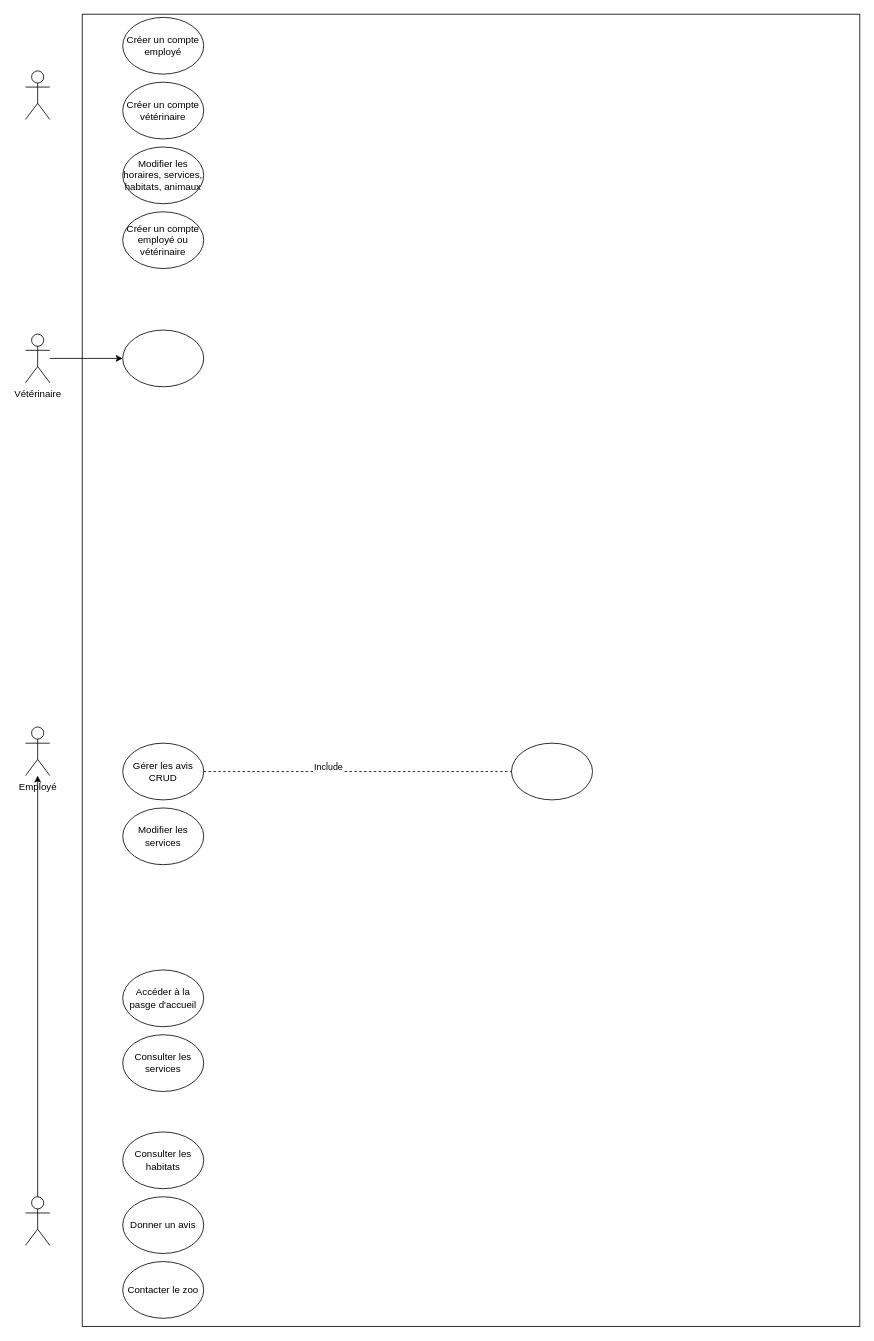
The diagram is 874 pixels wide and 1341 high, and some of its shapes have lost their labels. The box of each missing label's shape, as (x1, y1, x2, y2) in pixels:
Admin: (25, 70, 50, 119)
Modification fiche animal: (122, 329, 204, 387)
Se connecter: (511, 742, 593, 800)
Visiteur: (25, 1196, 50, 1245)
